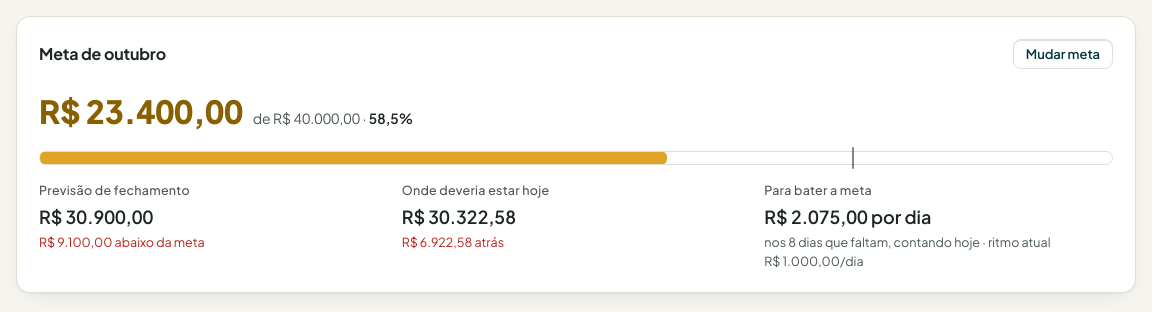
Scenario: meta do mês › "Mudar meta" abre o formulário com o valor atual e dá para cancelar
Click the button "Mudar meta".
click(1063, 54)  # box [1013, 39, 1113, 69]
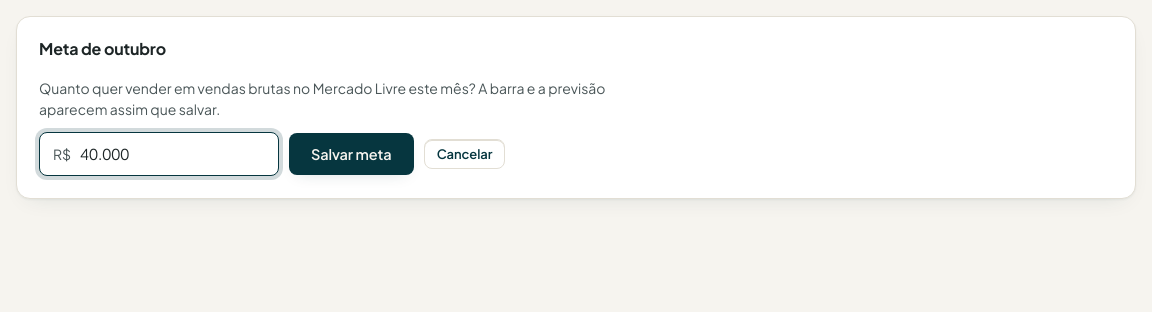
Check: the field named "Meta do mês em reais" holds "40.000", box [39, 132, 279, 176]
Click the button "Cancelar".
click(464, 154)  # box [424, 139, 505, 169]
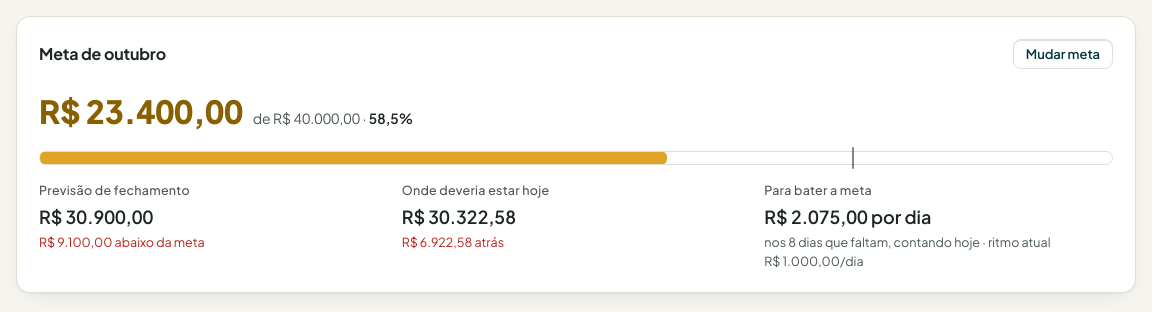
Check: the progress indicator is shown, box [39, 151, 1113, 165]
